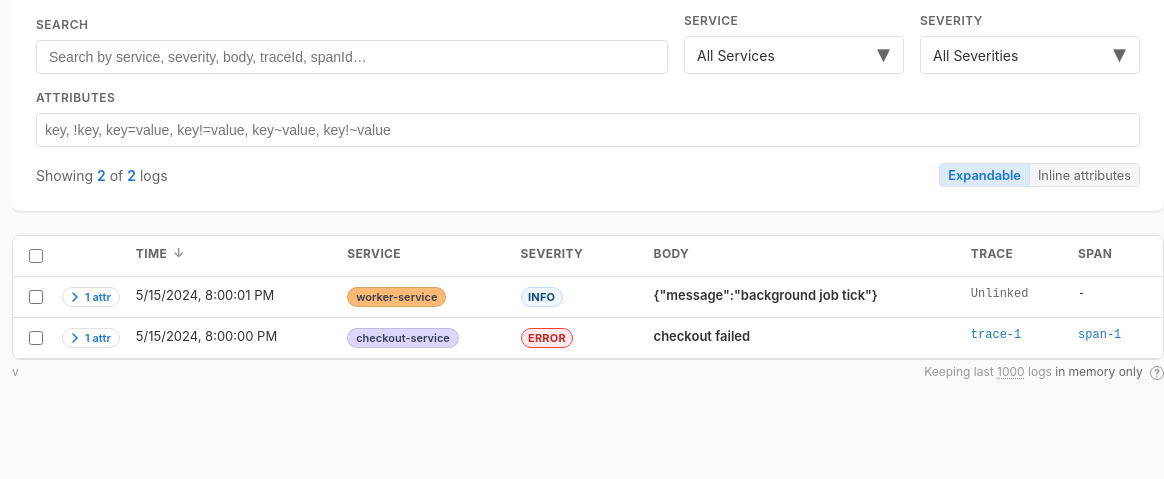
Scenario: Logs › expands a row to preview attributes without navigating
This screenshot has width=1164, height=479.
Expected: the text "checkout failed" is shown, x1=642 y1=318 x2=959 y2=358
Expected: the text "http.route" is not shown
What coordinates should you click on to do the following:
click the button with aria-label "Show attributes"
I would click on:
 (91, 297)
Its box is x1=62 y1=287 x2=120 y2=307.
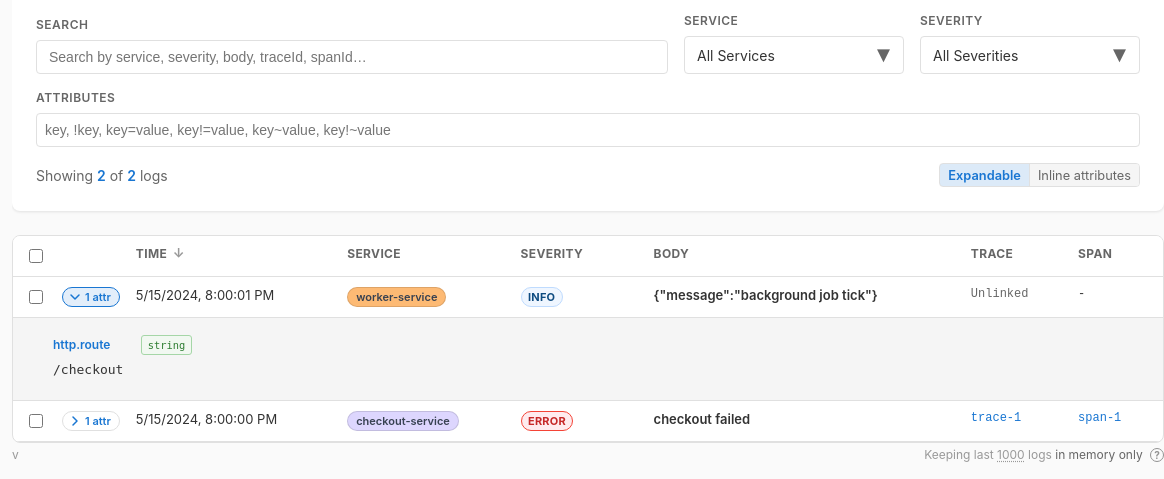
Expected: the number of rows with test id "log-row" is 2, x1=13 y1=276 x2=1163 y2=318; x1=13 y1=400 x2=1163 y2=441
Now the text "http.route" is shown, box x1=53 y1=337 x2=110 y2=352
What coordinates should you click on to do the following:
click the button with aria-label "Hide attributes"
I would click on:
 (91, 297)
Its box is x1=62 y1=287 x2=120 y2=307.
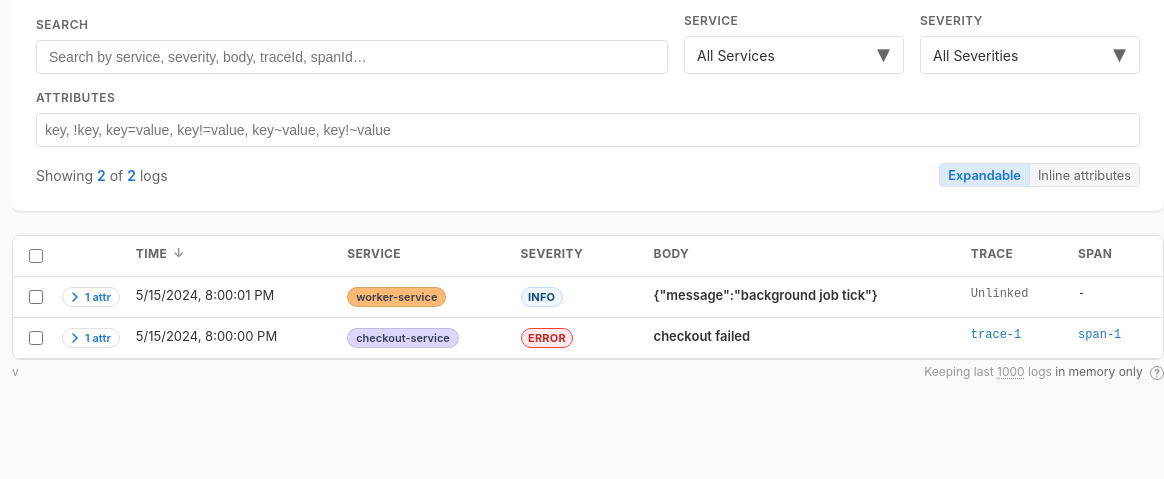
Now the text "http.route" is gone
